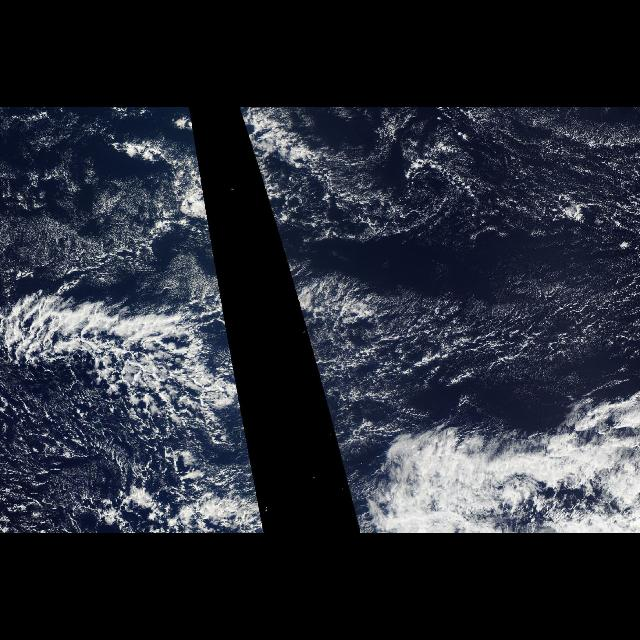Fish: (5, 273, 246, 435), (290, 273, 526, 435)
Gravel: (16, 350, 204, 524)
Sugar: (332, 114, 630, 370), (6, 146, 222, 300)
